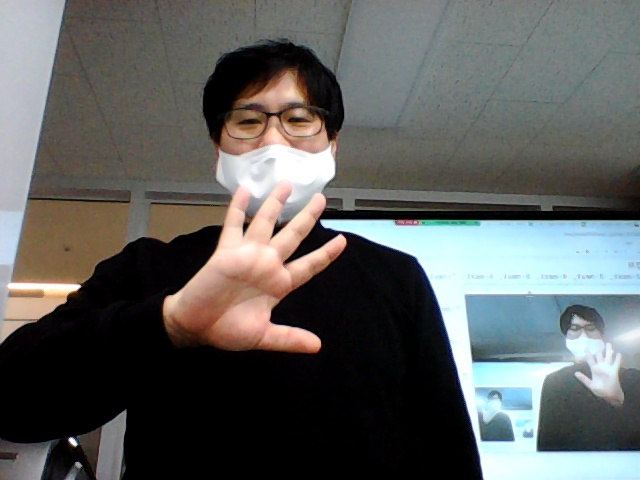five: (174, 176, 357, 363), (564, 333, 632, 409)
